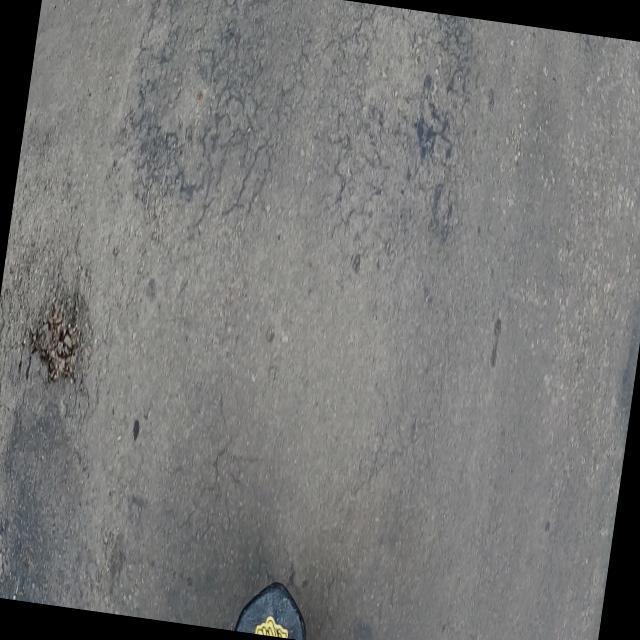Lubang: (27, 288, 92, 389)
